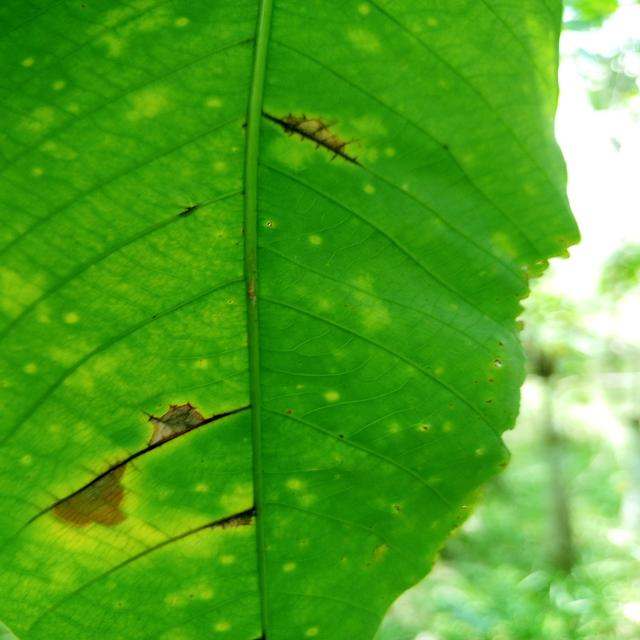Colletotrichum: (268, 222, 272, 226), (287, 411, 292, 414)
Corynespora: (28, 406, 252, 522), (260, 108, 361, 165), (200, 506, 256, 531), (142, 409, 162, 424)
Leaf-Blight: (52, 466, 126, 526), (148, 402, 205, 447)
